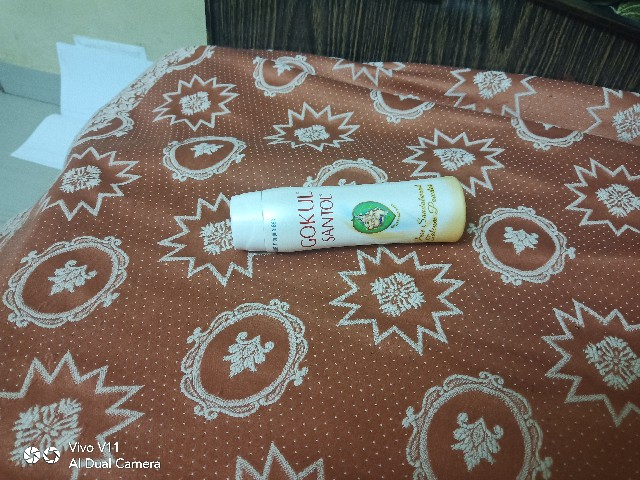gokulsantol big: (224, 172, 483, 272)
